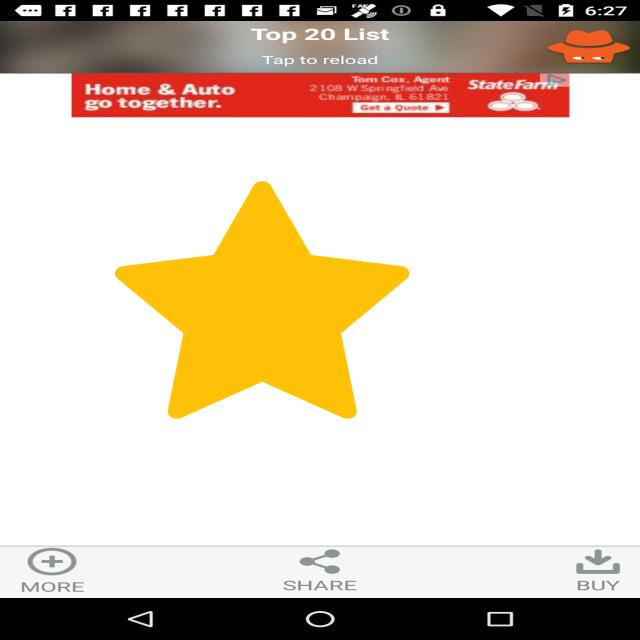forced continuity: (115, 181, 409, 419)
